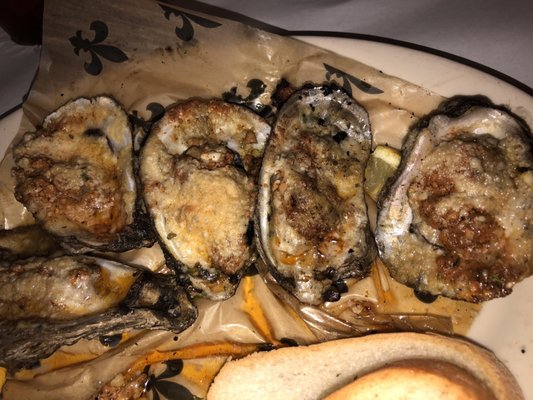pasta: (203, 331, 526, 400)
